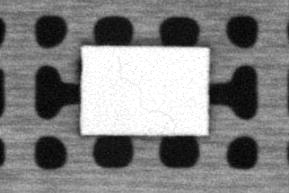DIE_CRACK: (122, 76, 177, 125)
